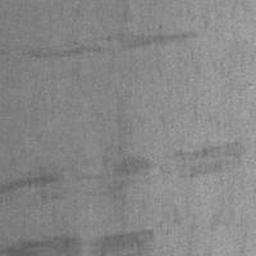Water spot: (29, 29, 197, 61), (76, 155, 154, 201), (172, 141, 246, 180), (88, 228, 154, 256), (0, 236, 86, 256), (0, 173, 58, 196)
